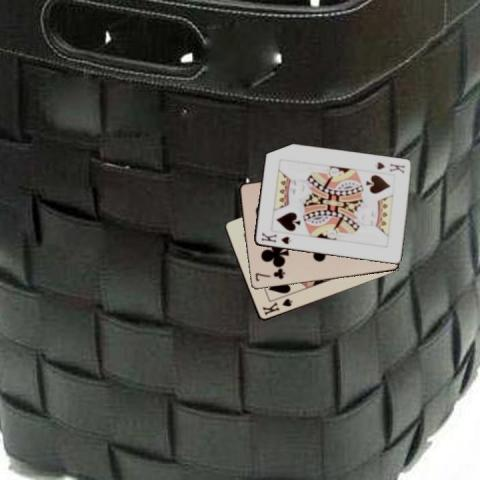7c: (252, 267, 286, 283)
Ks: (259, 296, 294, 317), (258, 230, 292, 246), (373, 159, 406, 175)
